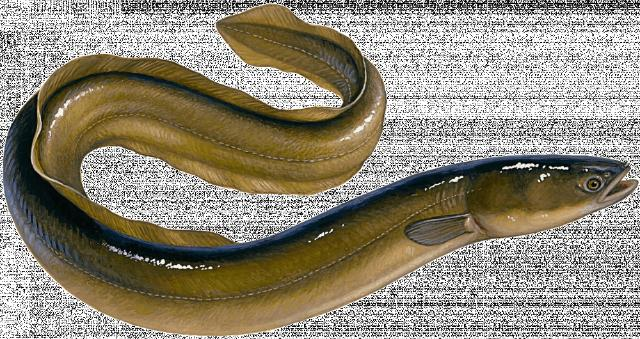Mulut: (572, 144, 640, 218)
Sirip Ekor: (200, 0, 322, 92)
